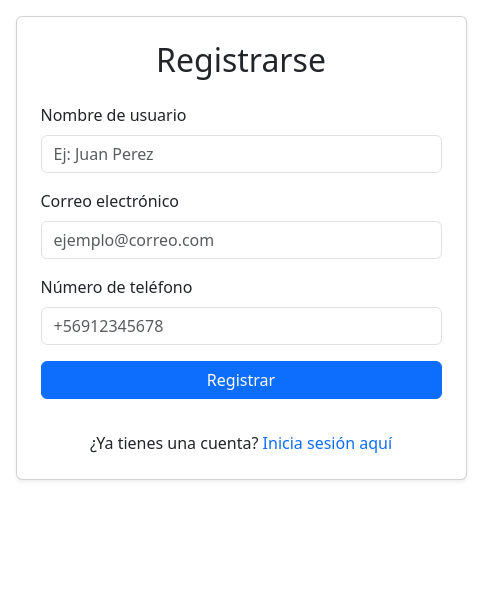
Test: RegisterForm › rechaza el teléfono inválido "+5691234567"
The width and height of the screenshot is (484, 598).
Type "Juan Perez" into the field labelled "Nombre de usuario" at [241, 154], box [40,135,442,173]
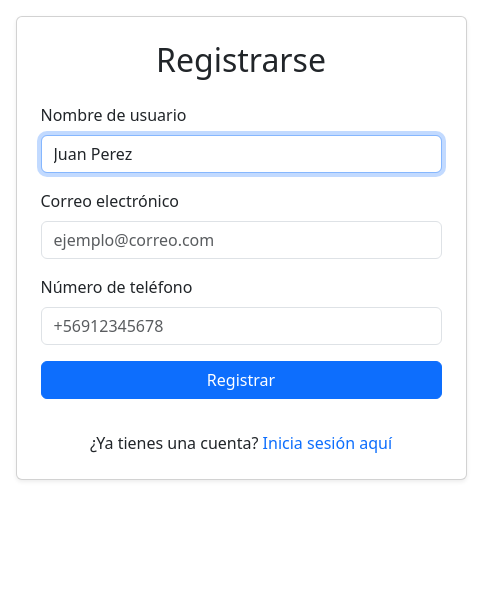
Type "juan@correo.com" into the field labelled "Correo electrónico" at [241, 240], box [40,221,442,259]
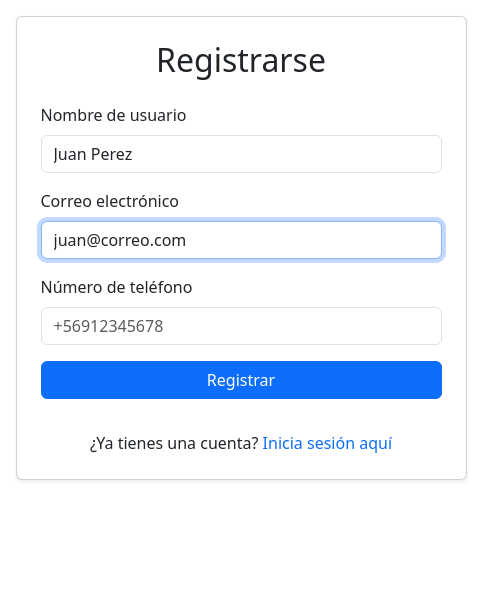
Type "+5691234567" into the field labelled "Número de teléfono" at [241, 326], box [40,307,442,345]
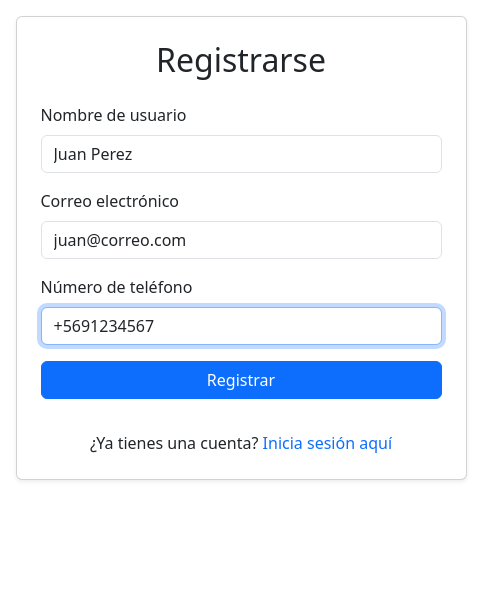
Click the button "Registrar" at [241, 380], box [40,361,442,399]
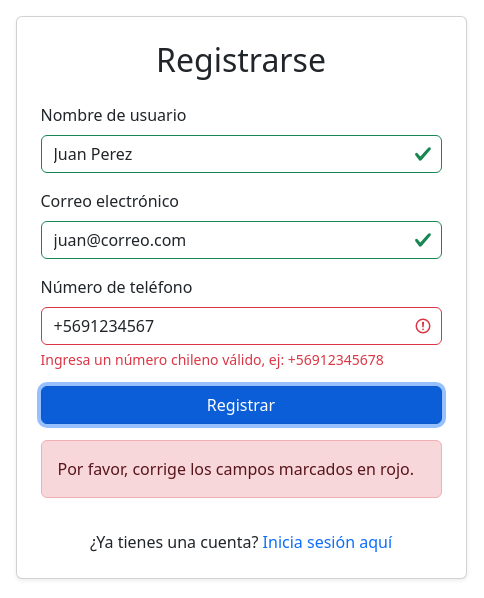
Expected: the text "Ingresa un número chileno válido, ej: +56912345678" is shown, [40,349,442,370]
